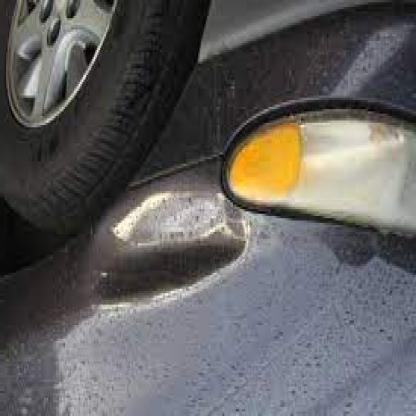dent: (92, 201, 250, 317)
